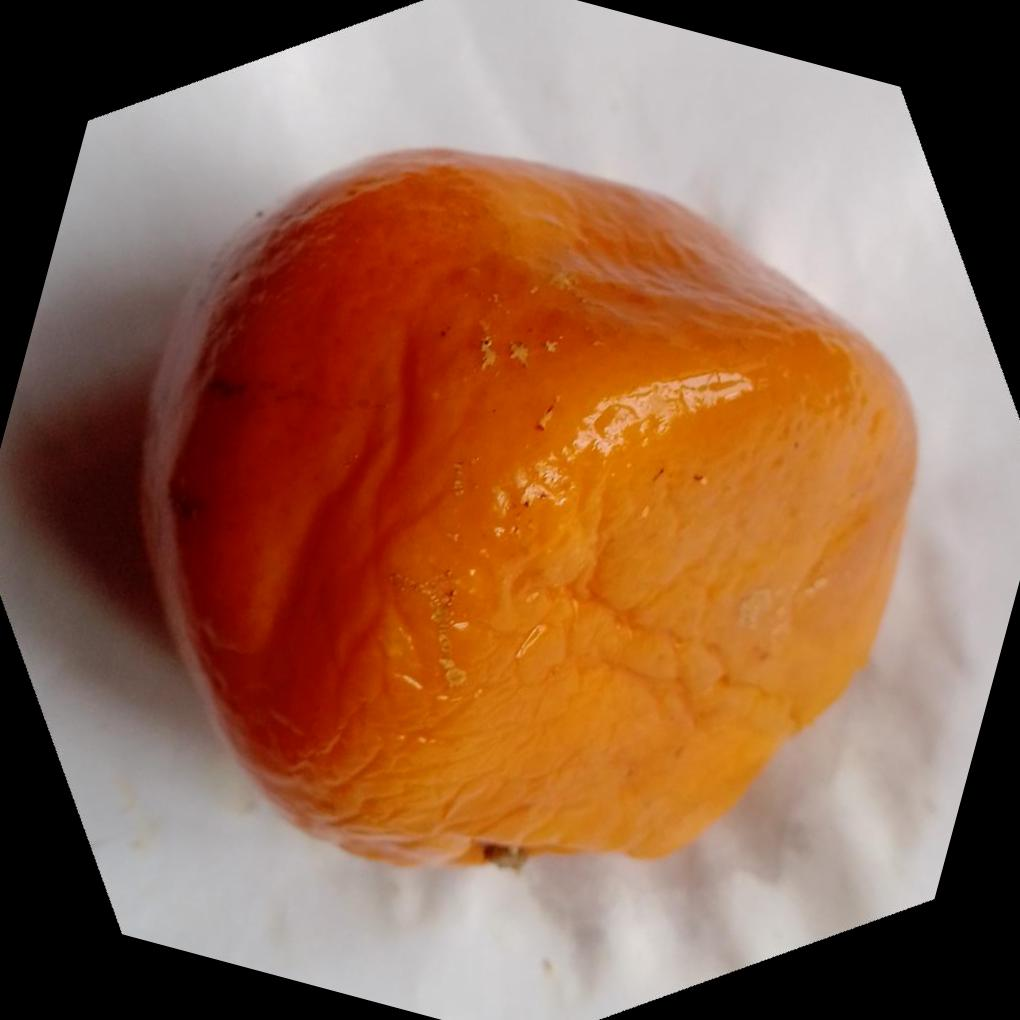FreshOrange: (130, 142, 918, 870)
